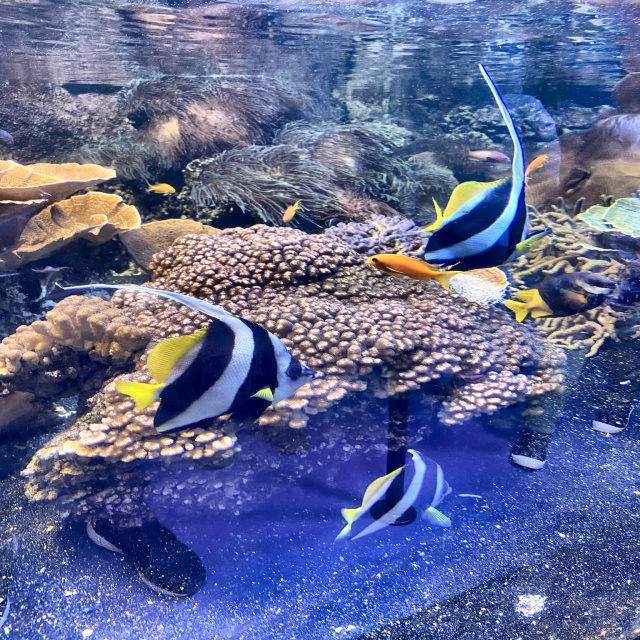fish: (117, 316, 325, 434), (422, 176, 546, 272), (332, 448, 452, 543), (503, 273, 617, 322), (367, 253, 460, 294), (461, 145, 510, 164), (525, 155, 548, 189), (281, 199, 302, 223), (146, 179, 175, 196)
